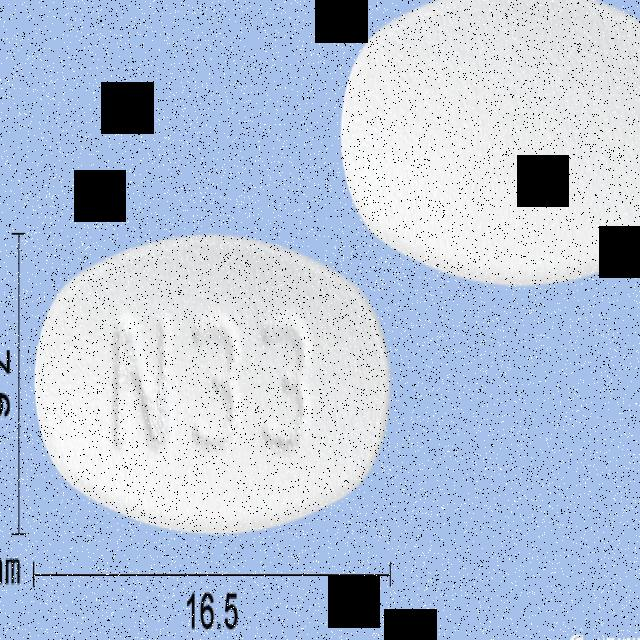Moxiclen Tab: (34, 232, 389, 534)
